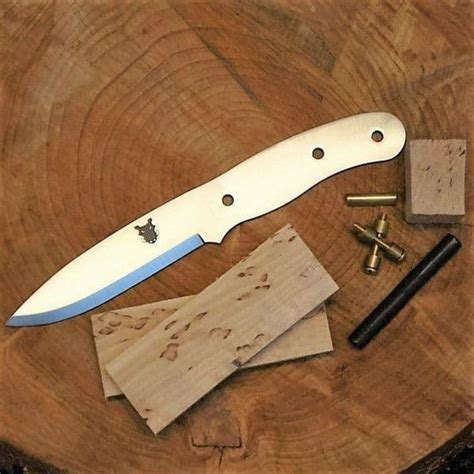knife: (3, 109, 408, 328)
